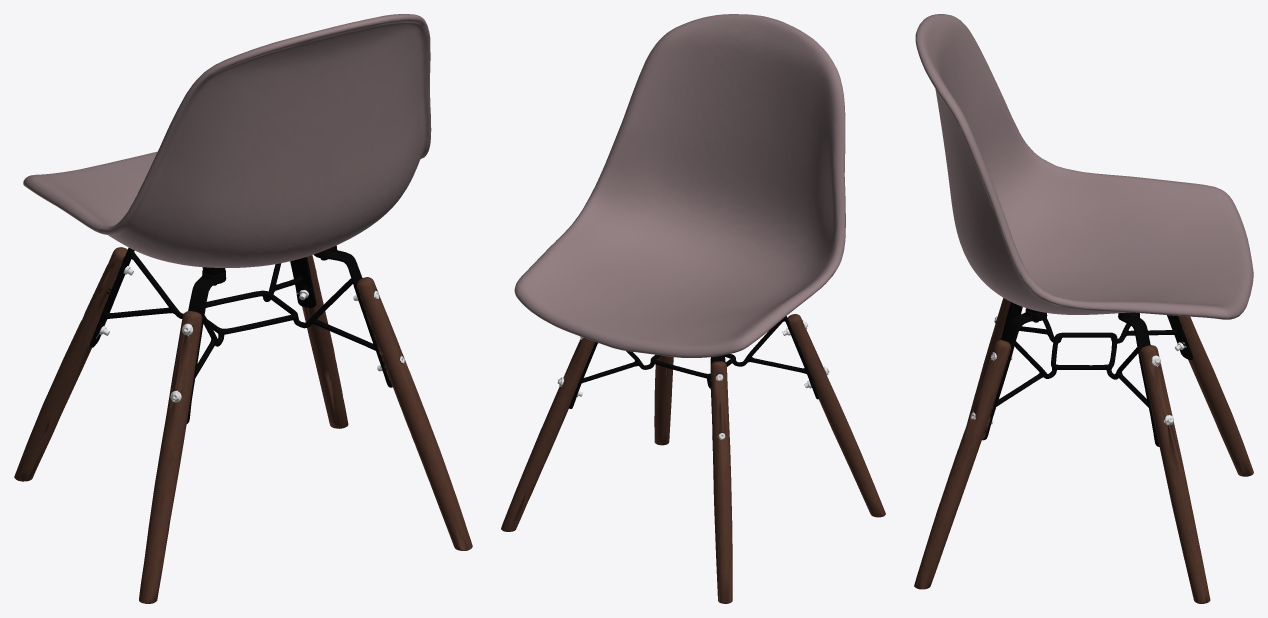
The model's file is ND-0607__Elon7.glb.
3 renders of one model, left to right at view 1: azimuth 30°, elevation 25°; view 2: azimuth 150°, elevation 25°; view 3: azimuth 270°, elevation 25°, orthographic. The views are drawn at different scales.
Parts seen in each view (by area): view 1: tripo_node_aeb78299-7747-400a-b60e-9c411fa0cf6e, tripo_node_aeb78299-7747-400a-b60e-9c411fa0cf6e.001, tripo_node_aeb78299-7747-400a-b60e-9c411fa0cf6e.003; view 2: tripo_node_aeb78299-7747-400a-b60e-9c411fa0cf6e, tripo_node_aeb78299-7747-400a-b60e-9c411fa0cf6e.001, tripo_node_aeb78299-7747-400a-b60e-9c411fa0cf6e.003; view 3: tripo_node_aeb78299-7747-400a-b60e-9c411fa0cf6e, tripo_node_aeb78299-7747-400a-b60e-9c411fa0cf6e.001, tripo_node_aeb78299-7747-400a-b60e-9c411fa0cf6e.003.
Part boxes in pixels (bbox=[...]): tripo_node_aeb78299-7747-400a-b60e-9c411fa0cf6e: bbox=[23, 14, 431, 267]; tripo_node_aeb78299-7747-400a-b60e-9c411fa0cf6e.001: bbox=[14, 247, 472, 603]; tripo_node_aeb78299-7747-400a-b60e-9c411fa0cf6e.003: bbox=[89, 245, 392, 423]; tripo_node_aeb78299-7747-400a-b60e-9c411fa0cf6e: bbox=[514, 14, 845, 357]; tripo_node_aeb78299-7747-400a-b60e-9c411fa0cf6e.001: bbox=[501, 314, 885, 603]; tripo_node_aeb78299-7747-400a-b60e-9c411fa0cf6e.003: bbox=[569, 316, 819, 450]; tripo_node_aeb78299-7747-400a-b60e-9c411fa0cf6e: bbox=[915, 14, 1253, 319]; tripo_node_aeb78299-7747-400a-b60e-9c411fa0cf6e.001: bbox=[914, 298, 1253, 603]; tripo_node_aeb78299-7747-400a-b60e-9c411fa0cf6e.003: bbox=[982, 302, 1193, 446].
Bounding box in the file's own units: 0.6284 × 0.9794 × 0.61.
Materials: 10 (2 with a texture image).
